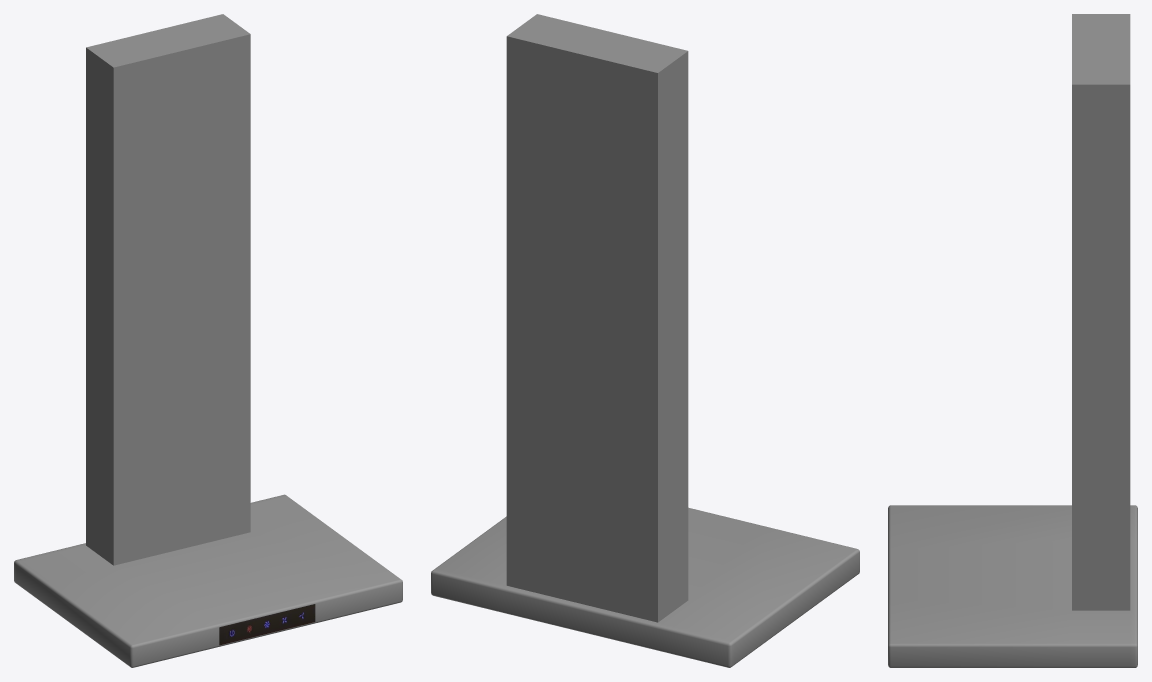
Rendered from Exhaust hood.FBX.
The picture shows the model from 3 angles, left to right: view 1: azimuth 30°, elevation 25°; view 2: azimuth 150°, elevation 25°; view 3: azimuth 270°, elevation 25°; orthographic projection. The views are drawn at different scales.
Visible parts, largest first — view 1: Exhaust hood; view 2: Exhaust hood; view 3: Exhaust hood.
Boxes of the visible parts, left/top/right/bottom form: Exhaust hood: left=14, top=14, right=402, bottom=667; Exhaust hood: left=431, top=14, right=859, bottom=667; Exhaust hood: left=888, top=14, right=1137, bottom=667.
Bounding box in the file's own units: 62.05 × 113 × 46.61.
2 materials, 1 textured.
